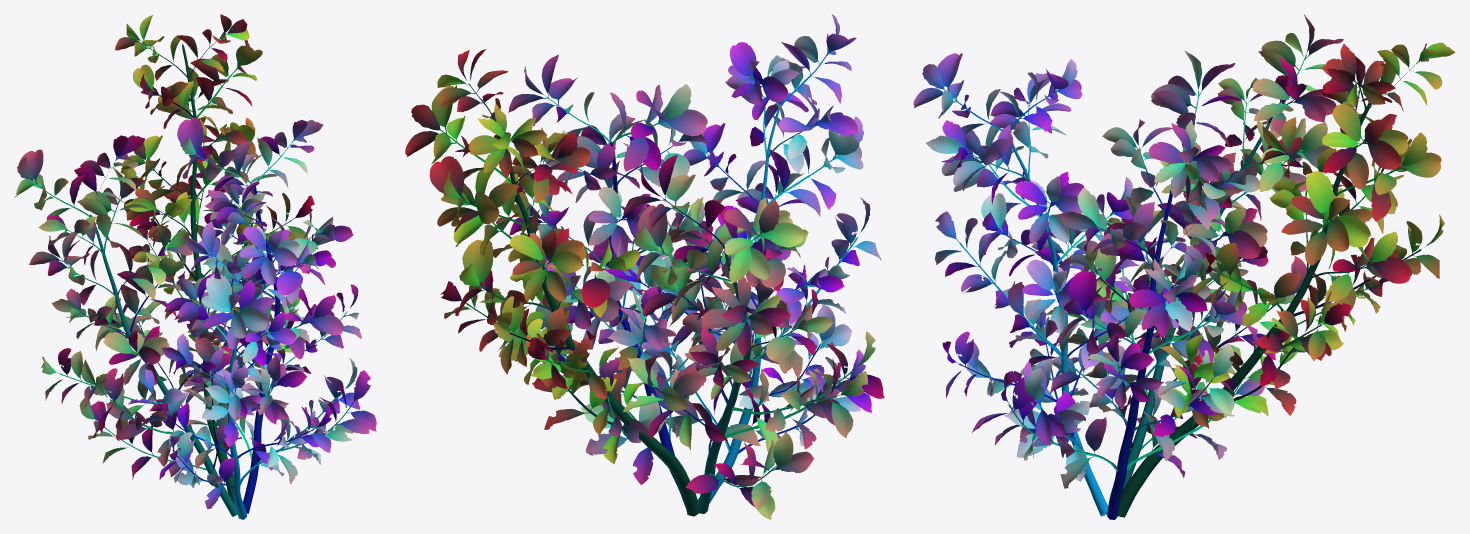
The model's file is European_Spindle_wk1ncbxja_Raw_wk1ncbxja_VarI_LOD0.fbx.
The picture shows the model from 3 angles, left to right: view 1: azimuth 30°, elevation 25°; view 2: azimuth 150°, elevation 25°; view 3: azimuth 270°, elevation 25°; orthographic projection. The views are drawn at different scales.
Parts seen in each view (by area): view 1: _iucr_VarI_High; view 2: _iucr_VarI_High; view 3: _iucr_VarI_High.
Part boxes in pixels (x1,y1,x2,y2): _iucr_VarI_High: (14,14,376,519); _iucr_VarI_High: (405,14,884,519); _iucr_VarI_High: (913,14,1455,519).
Size of the model in its own units: 80.18 by 111 by 105.
